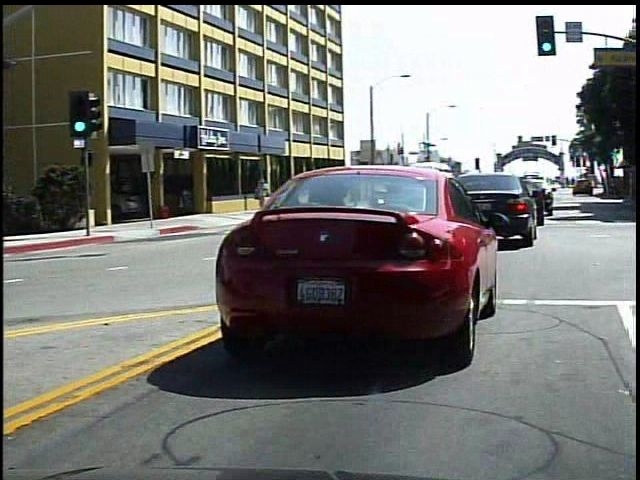person: (259, 174, 277, 209)
